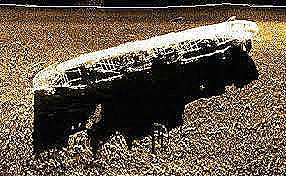ship: (32, 15, 259, 99)
